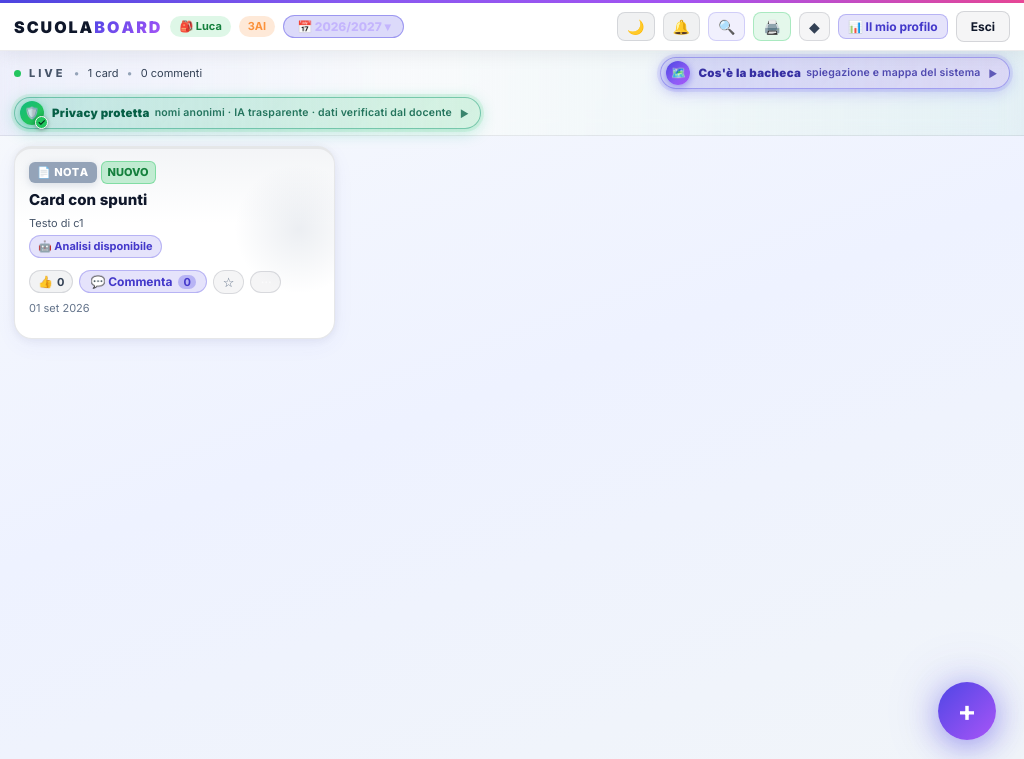
Test: Pannello AI: spunti per riflettere (domande_stimolo) › lo studente vede l'analisi completa (sintesi, dinamica, spunto, spunti) come il prof
Click the text "Card con spunti".
click(88, 199)  # box [29, 190, 147, 208]
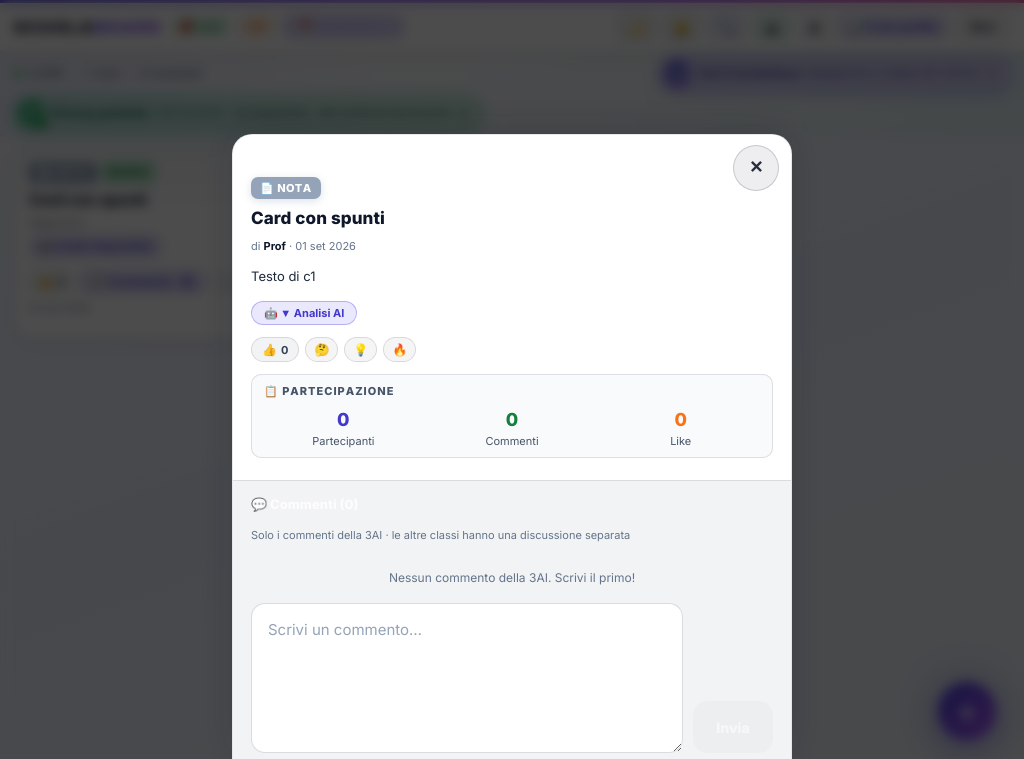
# Lo studente apre il pannello con "🤖 ▼ Analisi AI"
Click the button "🤖 ▼ Analisi AI".
click(304, 313)  # box [251, 301, 357, 325]
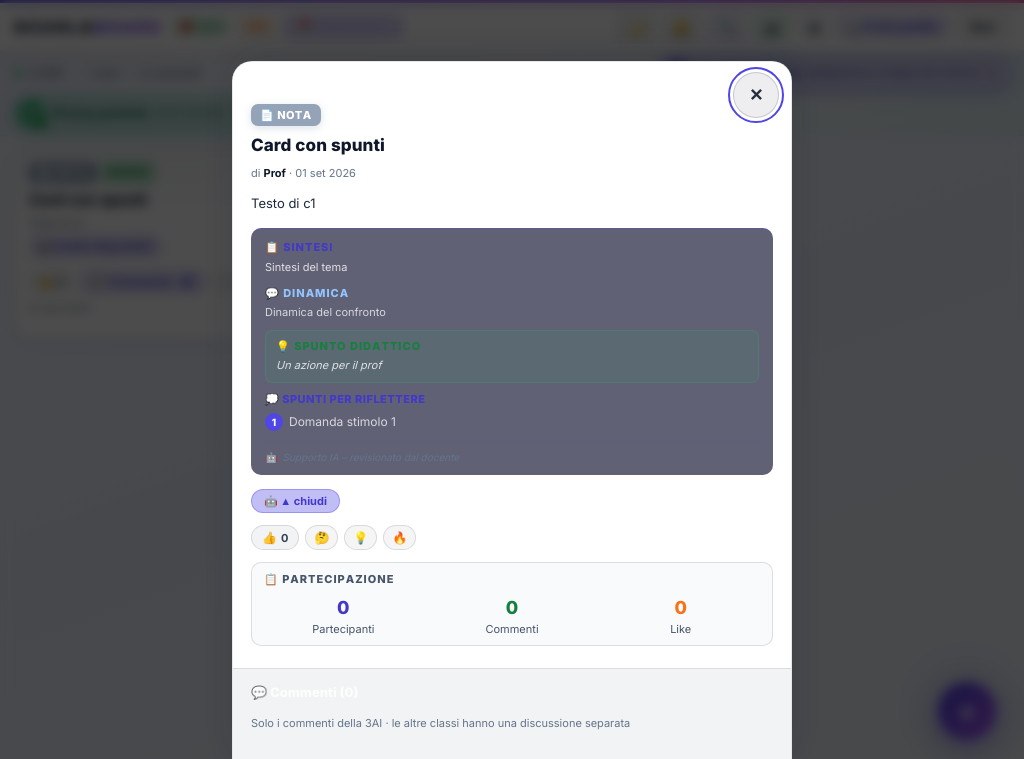
Now the text "Sintesi del tema" is shown, box [265, 260, 347, 274]
Now the text "Dinamica del confronto" is shown, box [265, 305, 386, 319]
Now the text "Un azione per il prof" is shown, box [276, 358, 382, 372]
